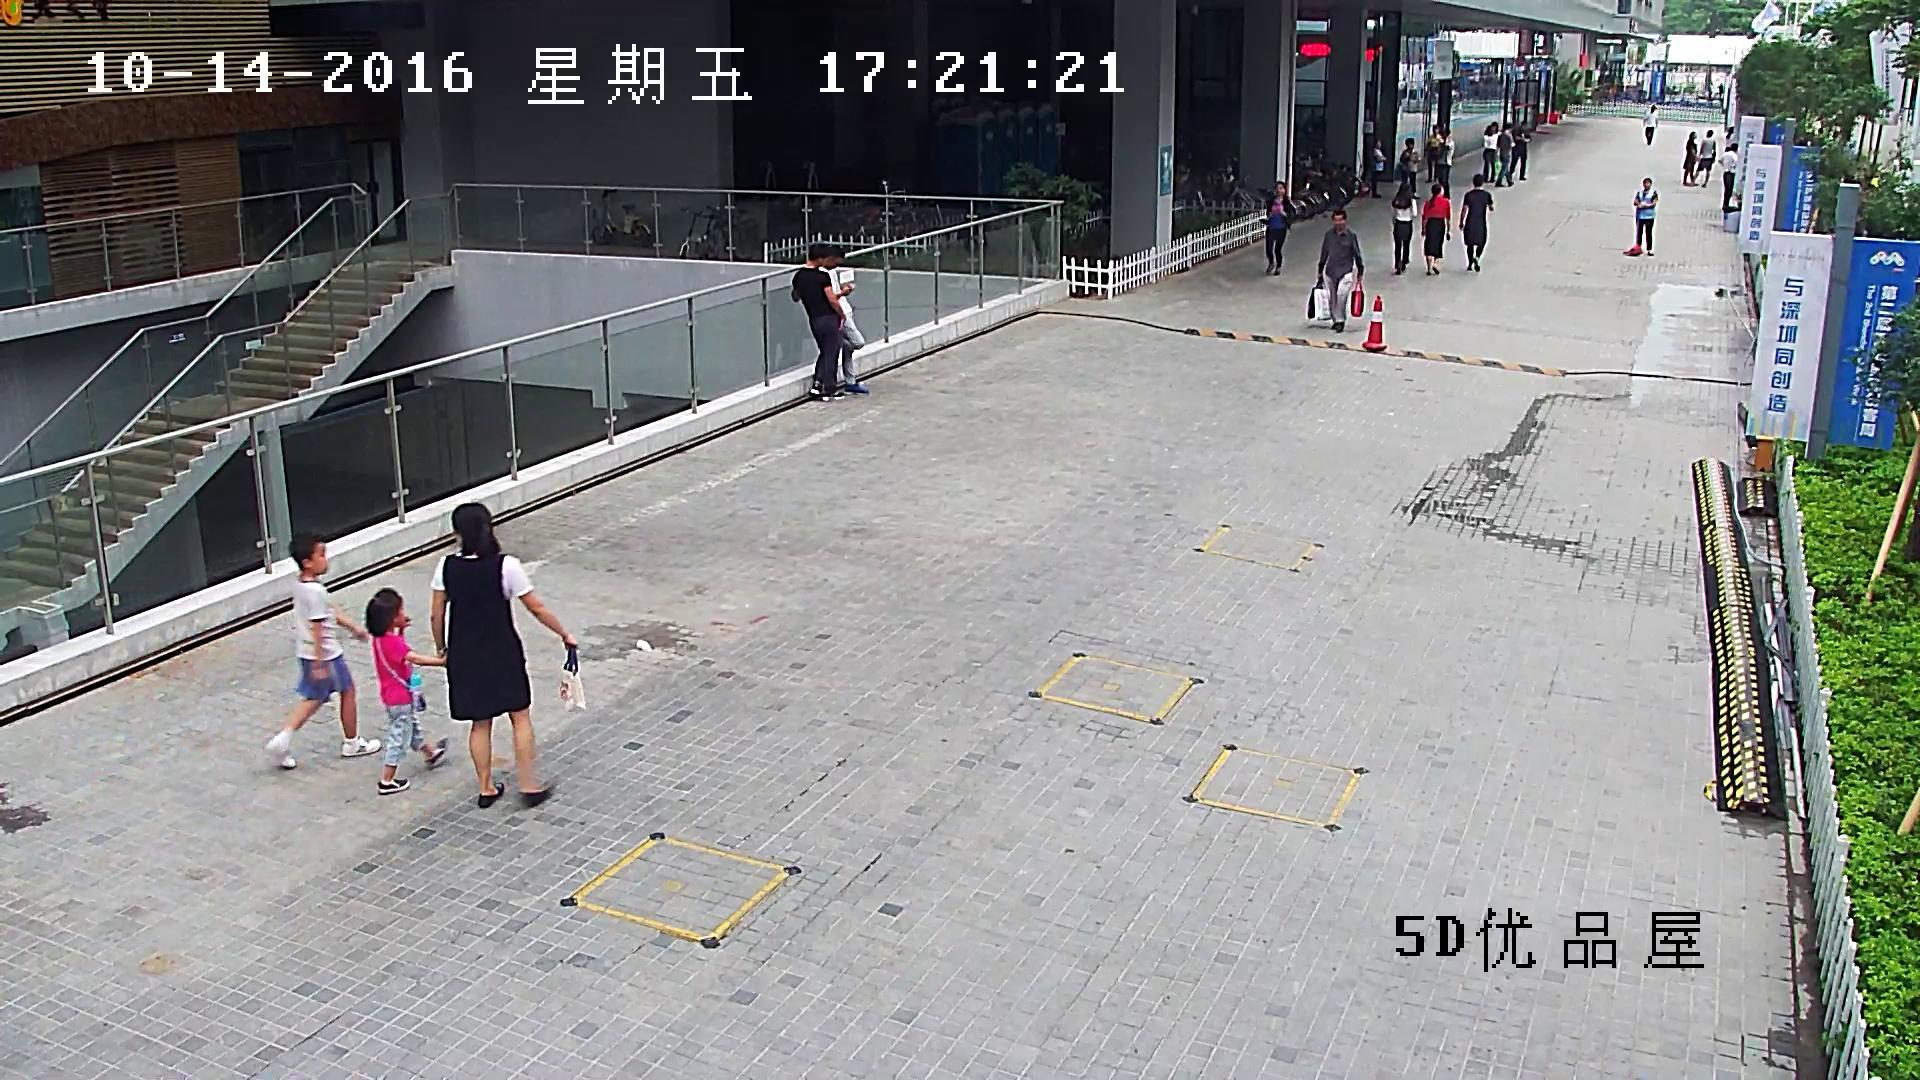person: (430, 501, 588, 809), (264, 529, 382, 769), (364, 587, 450, 796), (790, 243, 847, 402), (817, 242, 869, 394), (1306, 209, 1364, 334), (1318, 210, 1363, 333), (1457, 173, 1494, 273), (1258, 180, 1296, 275), (1420, 182, 1451, 276), (1622, 178, 1658, 257), (1390, 183, 1417, 276), (1633, 178, 1658, 255), (1435, 126, 1456, 198), (1718, 142, 1738, 212), (1509, 124, 1532, 181), (1693, 129, 1716, 188), (1399, 137, 1420, 199), (1422, 123, 1443, 183), (1495, 126, 1514, 187), (1370, 139, 1387, 198), (1681, 131, 1699, 187), (1482, 123, 1498, 182), (1642, 104, 1659, 146)
